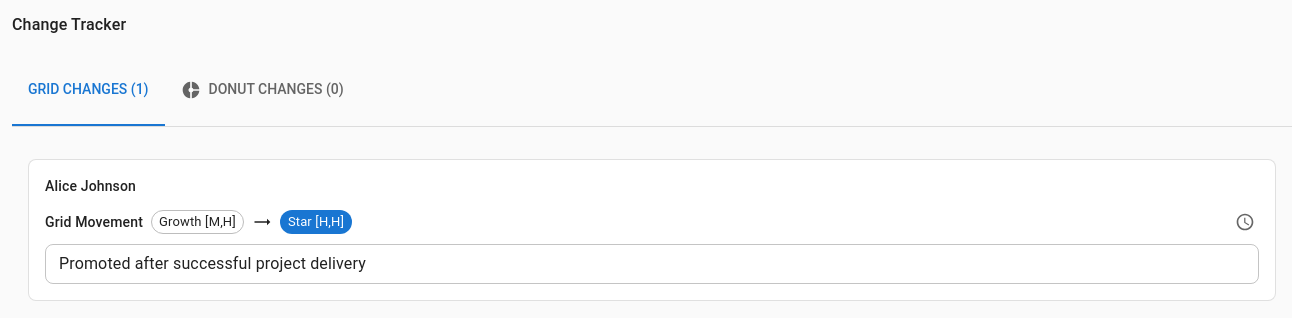
Scenario: ChangeTrackerTab › displays empty state for donut changes when no donut changes exist
Note: Switch to donut changes tab
Click the tab with test id "donut-changes-tab" at [262, 90], box [164,54,360,126]
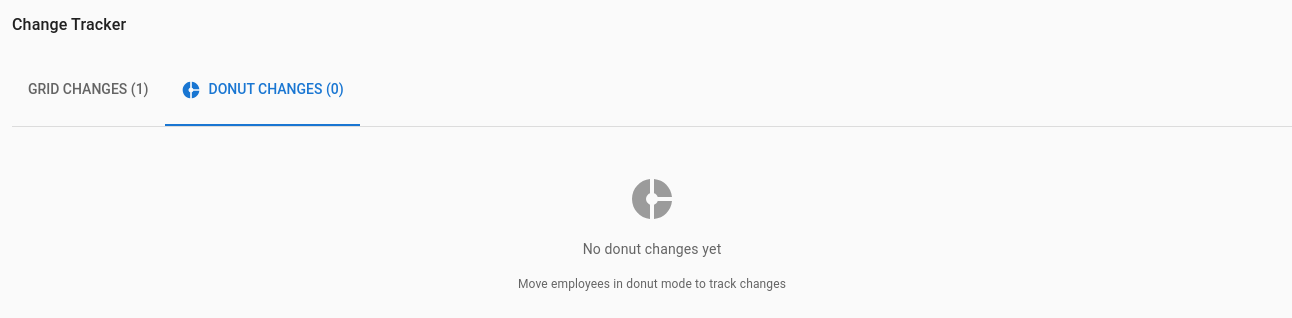
Now the text "No donut changes yet" is shown, box [583,239,721,259]
Now the text "Move employees in donut mode to track changes" is shown, box [518,275,786,294]
